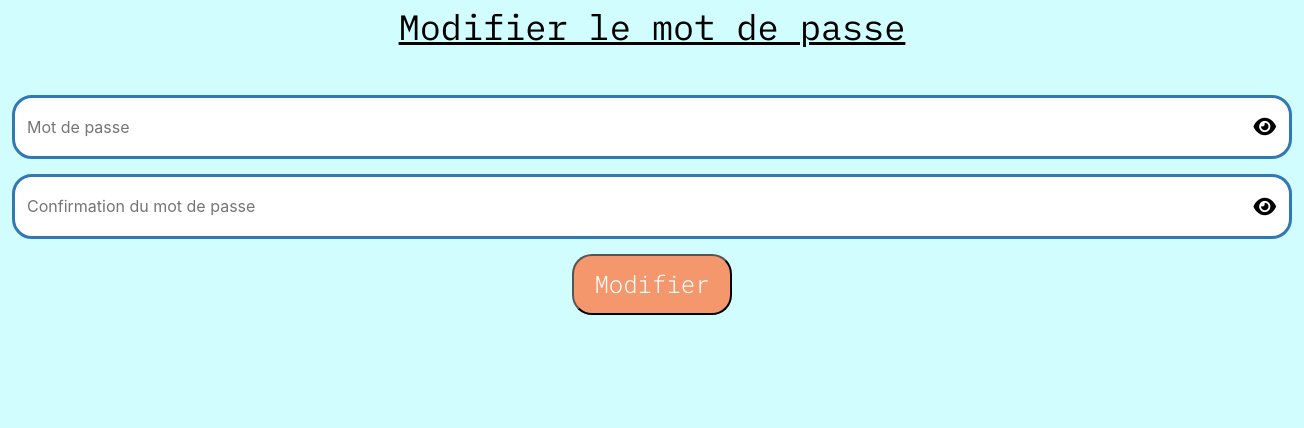
Test case: ResetPasswordSection › should no submit is form not valid
Click the button "Modifier": (652, 285) [572,254,732,315]
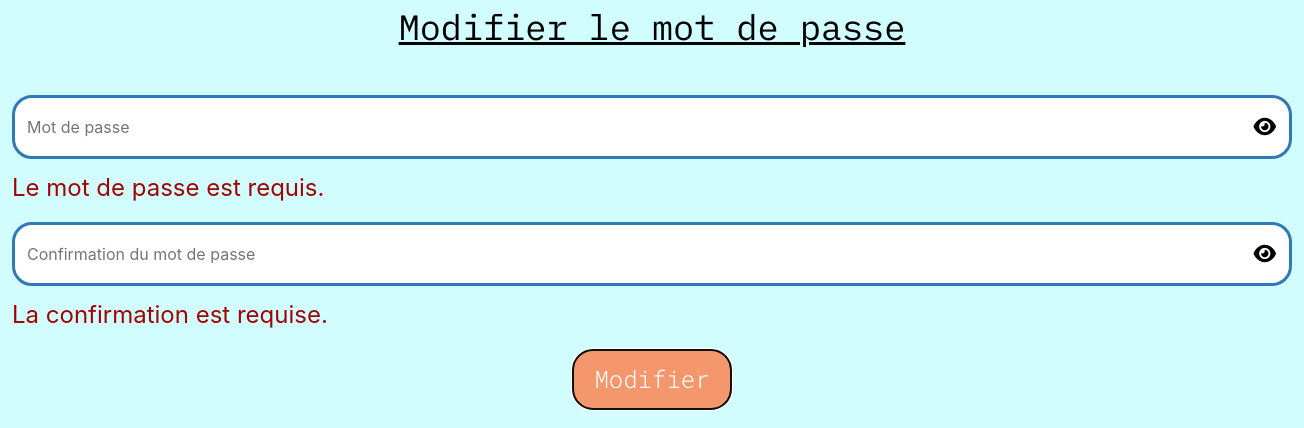
Now the text "Le mot de passe est requis." is shown, box [12,173,324,202]
Now the text "La confirmation est requise." is shown, box [12,300,328,329]
